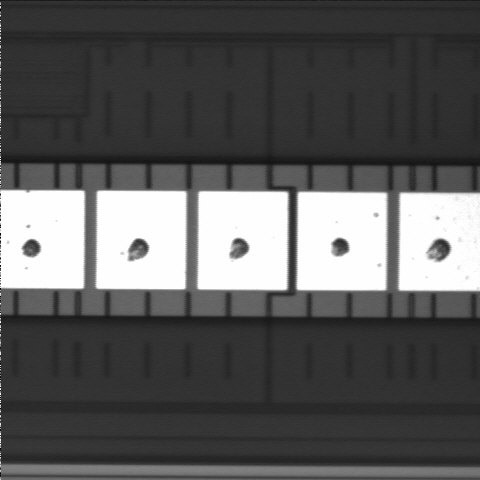pad: (198, 191, 288, 290), (96, 191, 186, 289), (297, 192, 387, 290)
